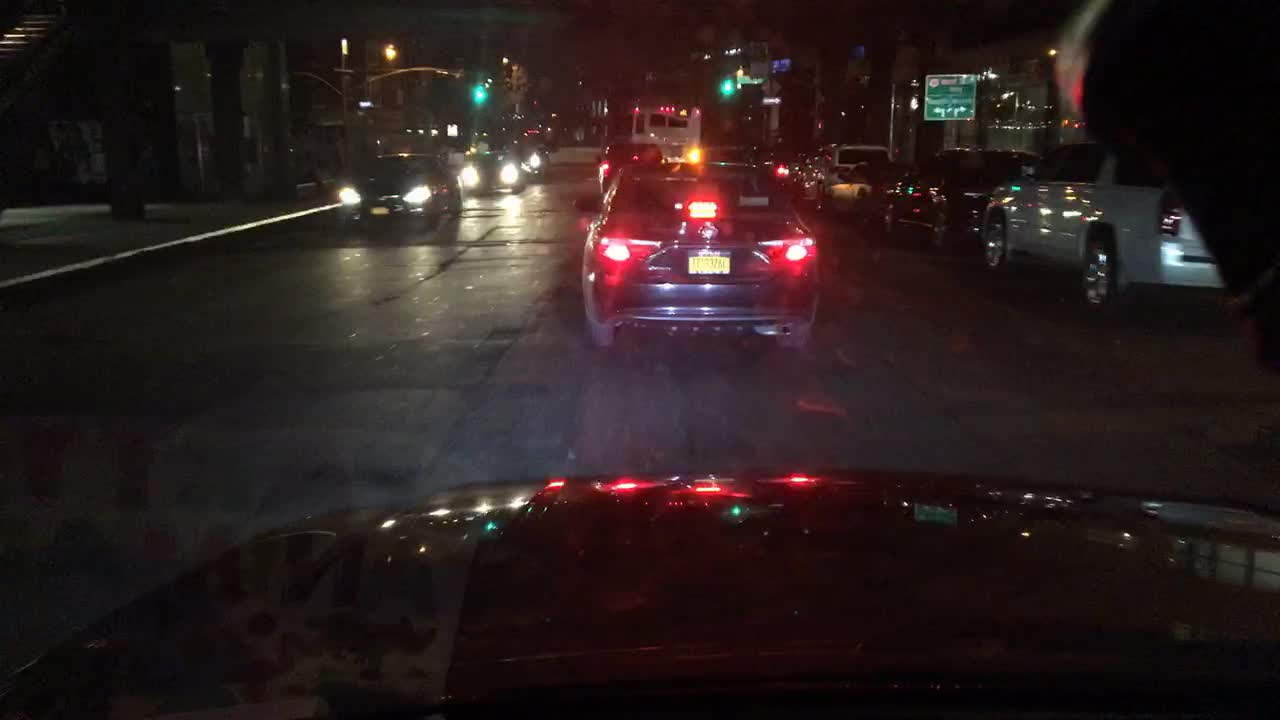car: (576, 148, 820, 347), (982, 140, 1253, 308), (883, 149, 1040, 256), (340, 152, 460, 229), (802, 145, 892, 212), (817, 161, 914, 221), (597, 140, 662, 197), (456, 149, 525, 193), (502, 140, 552, 181), (769, 152, 808, 199), (382, 139, 450, 164), (691, 146, 767, 167), (661, 140, 700, 164), (466, 128, 496, 149), (535, 124, 556, 149), (499, 130, 534, 143)
traffic light: (469, 83, 486, 104), (718, 76, 730, 94), (630, 104, 643, 118), (658, 104, 674, 113), (814, 118, 823, 131)
traffic sign: (923, 71, 973, 121), (173, 77, 212, 115), (173, 56, 210, 74), (171, 43, 203, 55), (763, 95, 781, 106), (445, 124, 457, 137), (357, 100, 373, 107)
